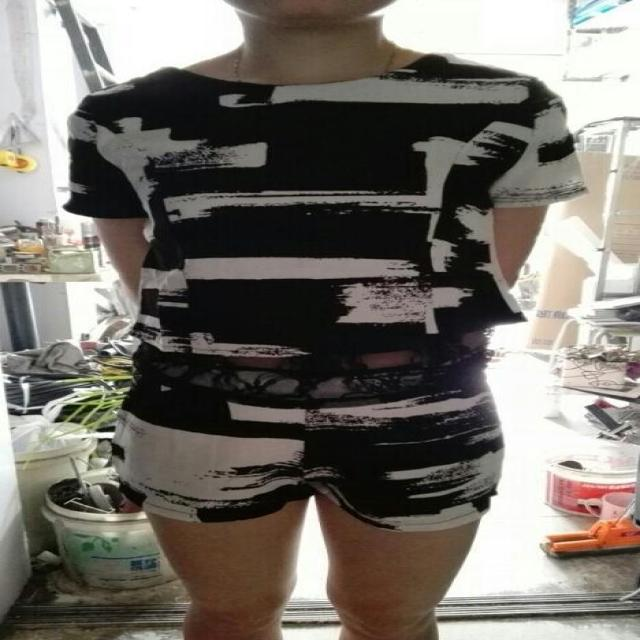short-sleeve-dress: (44, 44, 594, 531)
